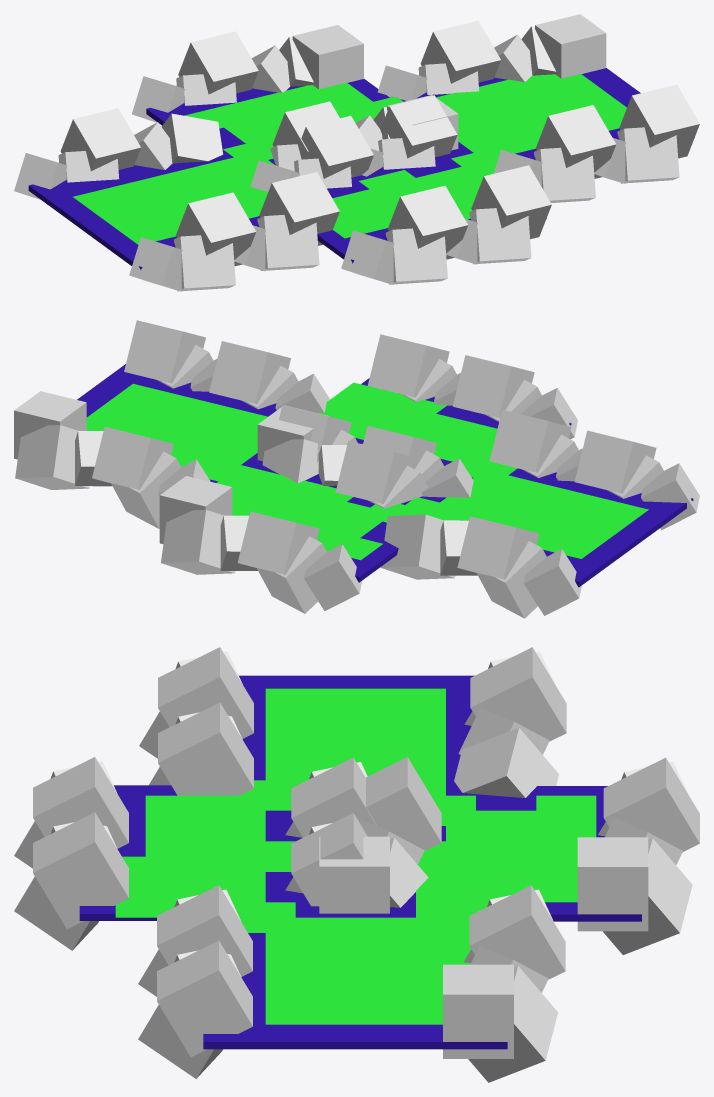
Rendered from terrain-for-bvh-study.gltf.
The picture shows the model from 3 angles, top to bottom: view 1: azimuth 30°, elevation 25°; view 2: azimuth 150°, elevation 25°; view 3: azimuth 270°, elevation 25°; orthographic projection. The views are drawn at different scales.
Parts seen in each view (by area): view 1: Plane, Cube.040, Cube.012, Cube.005, Cube.002, Cube.047, Cube.015, Cube.021, Cube.028, Cube.044, Cube.037, Cube.050 (+37 smaller); view 2: Plane, Cube.040, Cube.029, Cube.003, Cube.042, Cube.024, Cube.005, Cube.021, Cube.037, Cube.050, Cube.012, Cube.047 (+37 smaller); view 3: Plane, Cube.001, Cube.012, Cube.005, Cube.044, Cube.028, Cube.040, Cube.002, Cube.037, Cube.024, Cube.050, Cube.042 (+18 smaller).
Part boxes in pixels (x1=…): Plane: x1=73, y1=74, x2=626, y2=244; Cube.040: x1=28, y1=138, x2=260, y2=269; Cube.012: x1=471, y1=165, x2=551, y2=239; Cube.005: x1=619, y1=84, x2=699, y2=158; Cube.002: x1=535, y1=14, x2=606, y2=78; Cube.047: x1=175, y1=192, x2=256, y2=266; Cube.015: x1=388, y1=185, x2=468, y2=259; Cube.021: x1=536, y1=105, x2=616, y2=178; Cube.028: x1=292, y1=25, x2=363, y2=89; Cube.044: x1=259, y1=172, x2=339, y2=245; Cube.037: x1=178, y1=31, x2=258, y2=94; Cube.050: x1=60, y1=108, x2=140, y2=171; Plane: x1=86, y1=382, x2=648, y2=560; Cube.040: x1=382, y1=468, x2=693, y2=587; Cube.029: x1=161, y1=509, x2=235, y2=574; Cube.003: x1=15, y1=425, x2=89, y2=489; Cube.042: x1=380, y1=514, x2=455, y2=579; Cube.024: x1=92, y1=427, x2=173, y2=489; Cube.005: x1=124, y1=320, x2=205, y2=383; Cube.021: x1=209, y1=341, x2=290, y2=403; Cube.037: x1=237, y1=511, x2=319, y2=574; Cube.050: x1=457, y1=516, x2=539, y2=579; Cube.012: x1=367, y1=334, x2=449, y2=397; Cube.047: x1=574, y1=430, x2=656, y2=493; Plane: x1=115, y1=688, x2=596, y2=1024; Cube.001: x1=203, y1=913, x2=507, y2=1049; Cube.012: x1=33, y1=812, x2=128, y2=928; Cube.005: x1=157, y1=940, x2=252, y2=1057; Cube.044: x1=158, y1=702, x2=253, y2=795; Cube.028: x1=577, y1=837, x2=648, y2=931; Cube.040: x1=239, y1=675, x2=474, y2=789; Cube.002: x1=443, y1=964, x2=513, y2=1058; Cube.037: x1=603, y1=757, x2=699, y2=851; Cube.024: x1=469, y1=885, x2=565, y2=979; Cube.050: x1=470, y1=647, x2=566, y2=741; Cube.042: x1=454, y1=728, x2=558, y2=797.
Bounding box in the file's own units: 139 × 21.49 × 109.
